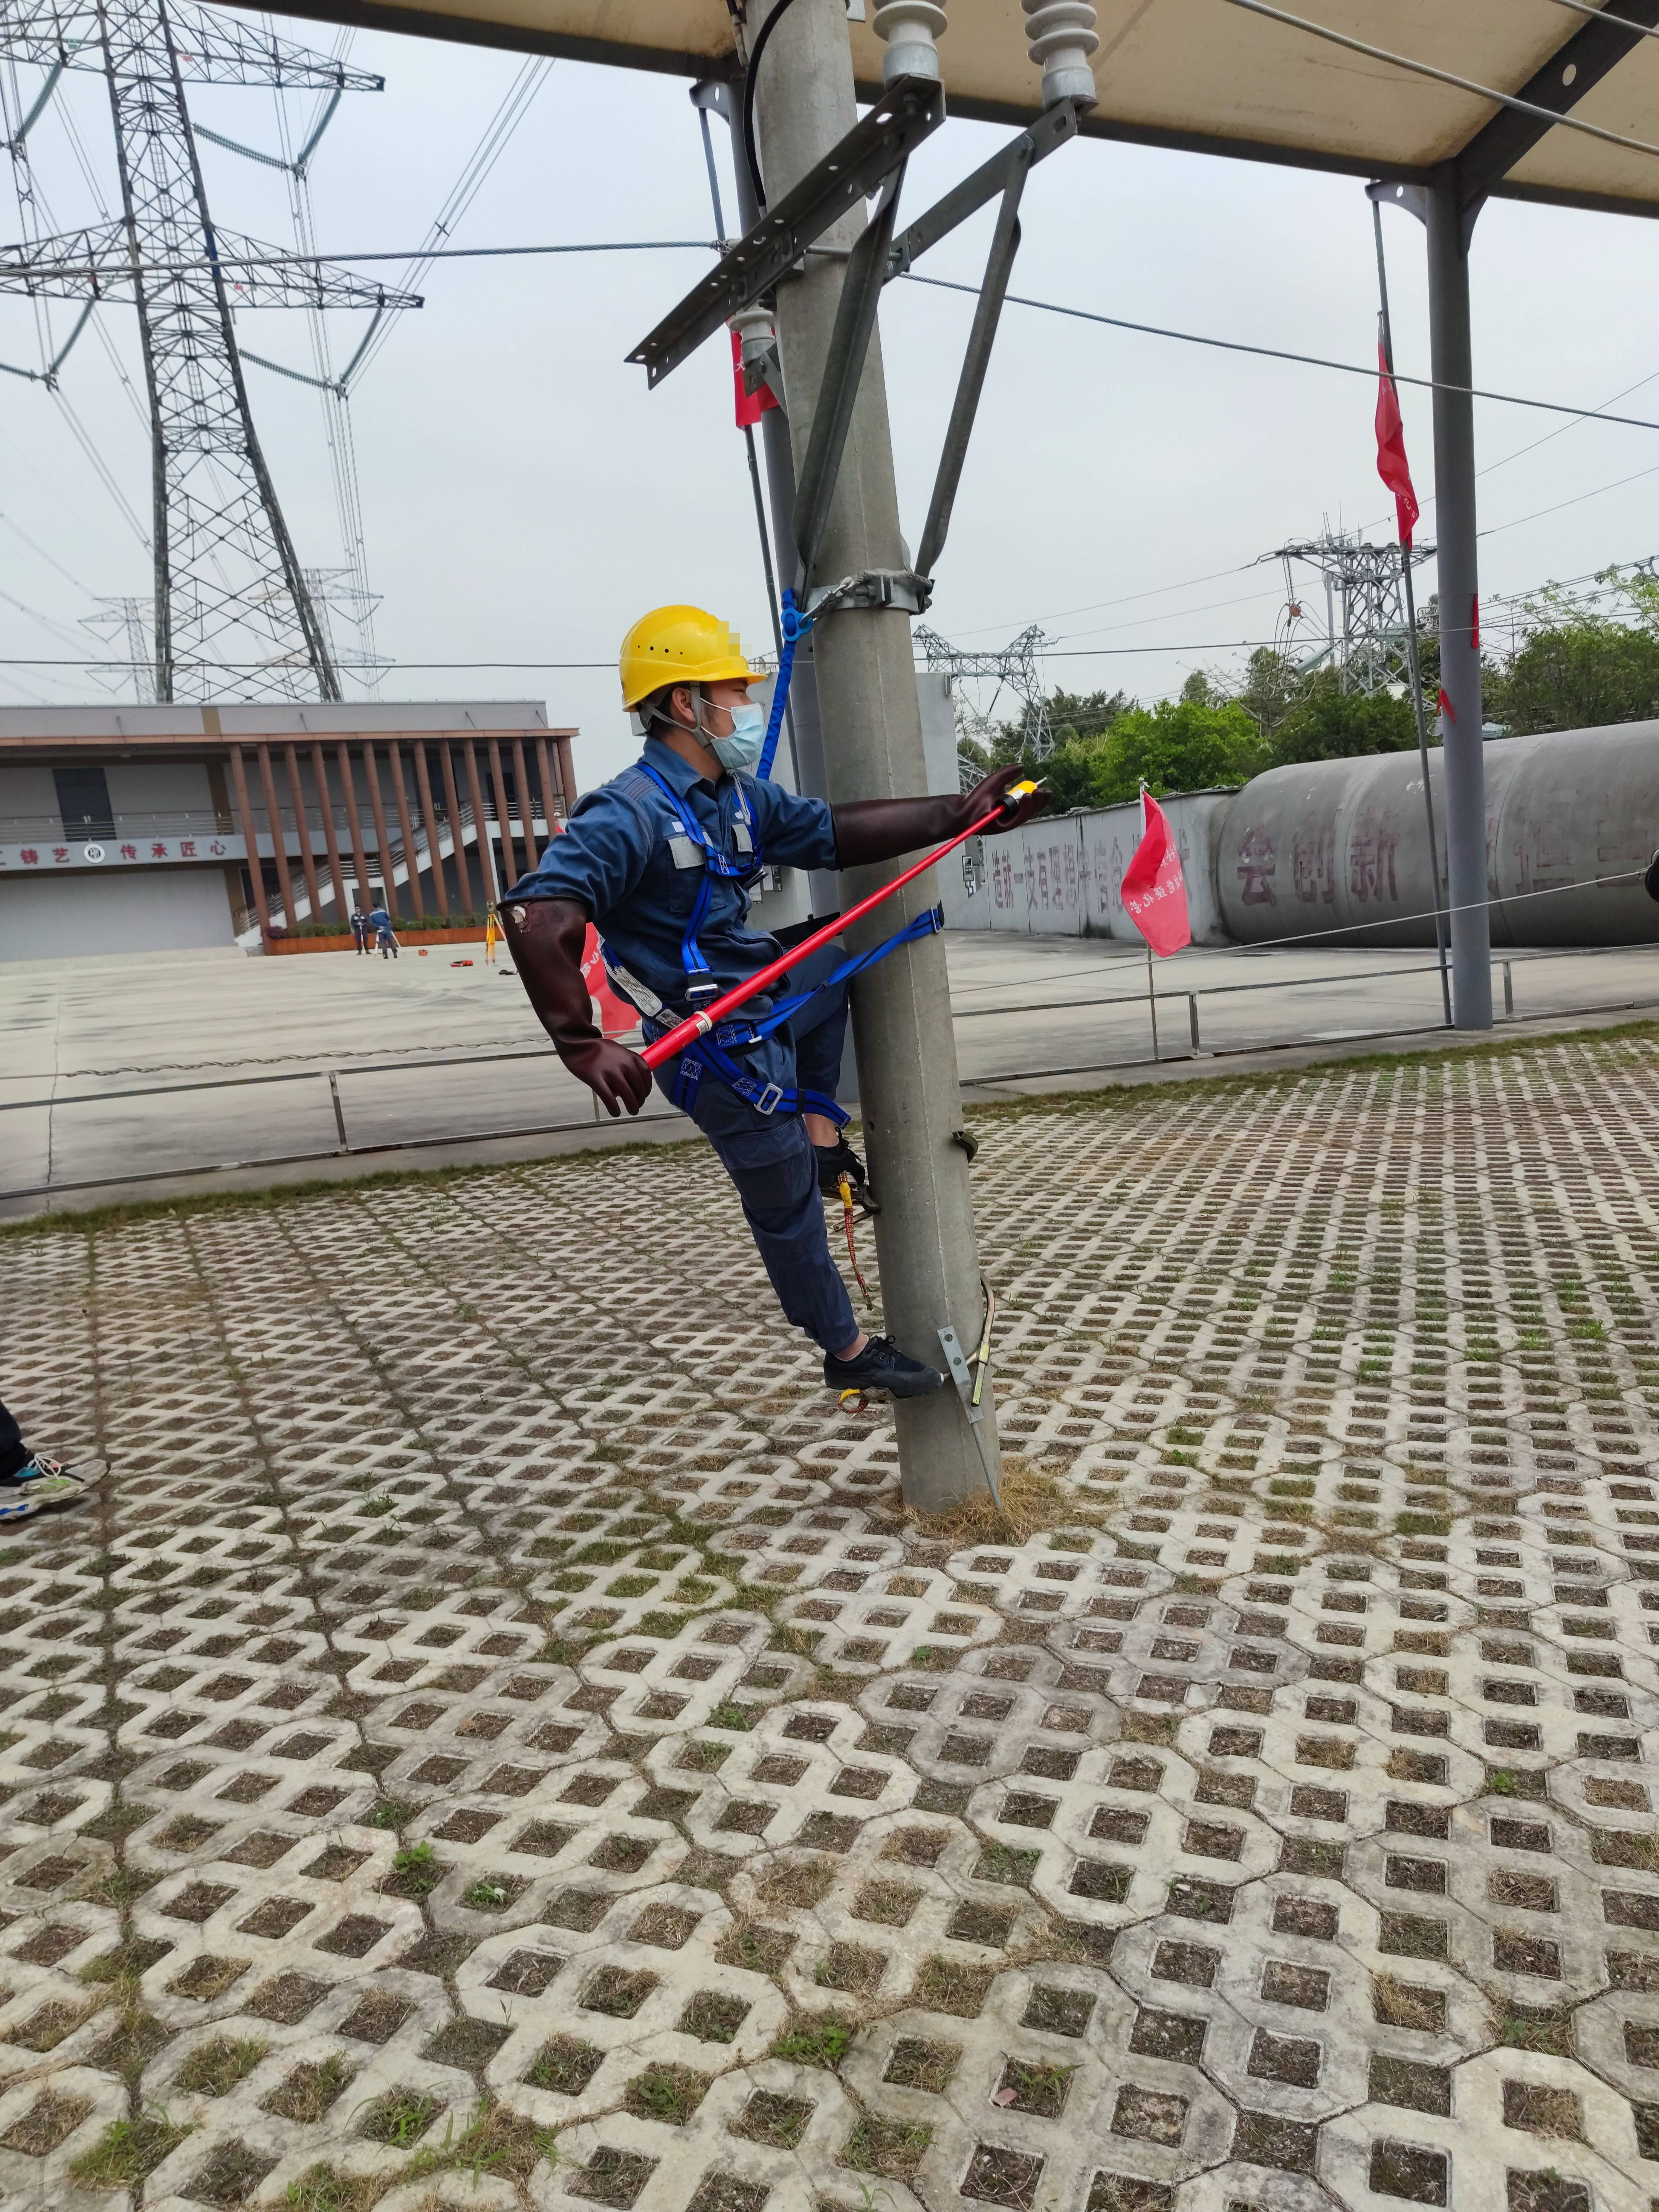downsuit: (660, 1014, 850, 1343)
upsuit: (561, 772, 809, 1007)
